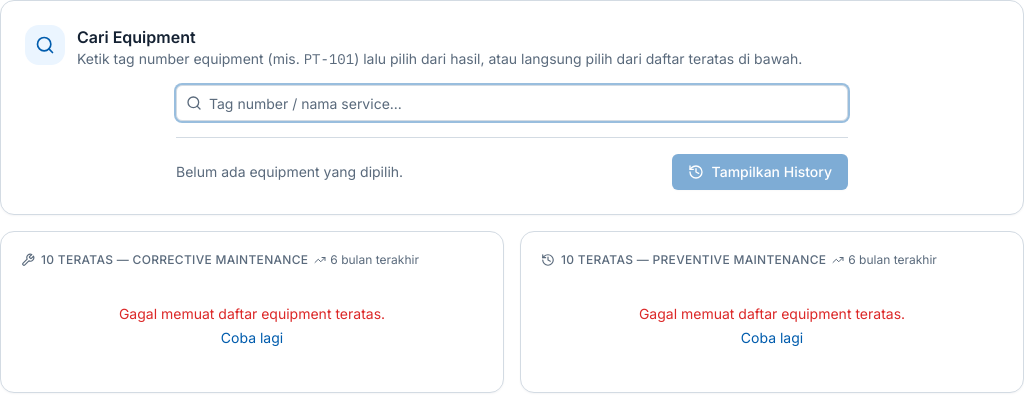
EquipmentSearchPanel › gagal memuat Top: pesan error di kedua panel + coba lagi, pencarian tetap bisa dipakai
Expected: the text "Gagal memuat daftar equipment teratas." is shown 2 times, [119, 305, 385, 322]; [639, 305, 905, 322]
Expected: the field named "cari tag number" is enabled, [176, 85, 848, 121]
Step 1. Click the button "Coba lagi" below "10 Teratas — Corrective Maintenance" → (252, 338), box [221, 328, 283, 348]
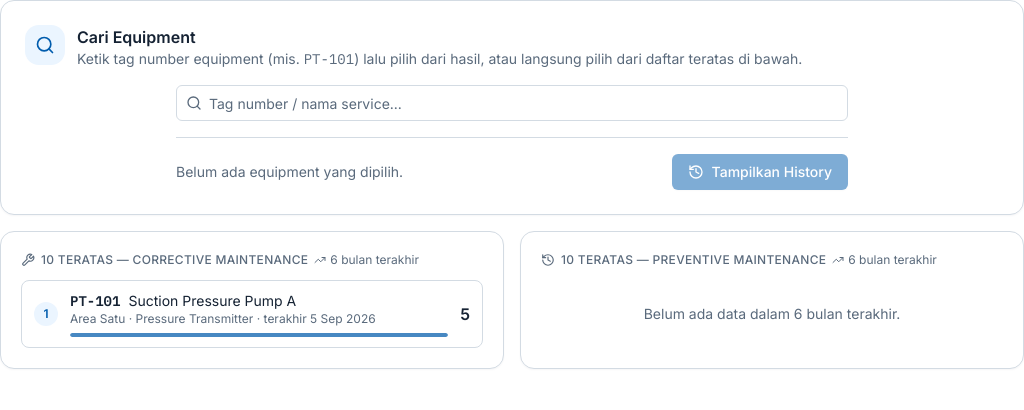
Now the button with aria-label "buka history PT-101" is shown, box [21, 280, 483, 348]
